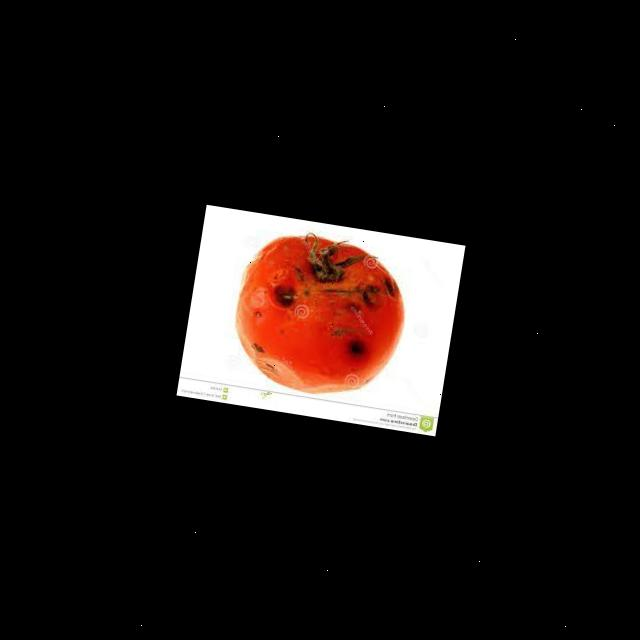tomato: (207, 210, 427, 412)
